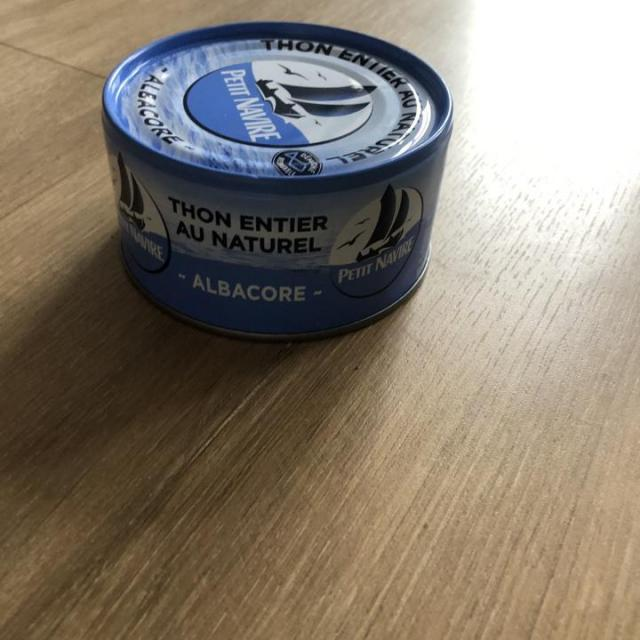recyclable: (95, 13, 462, 352)
